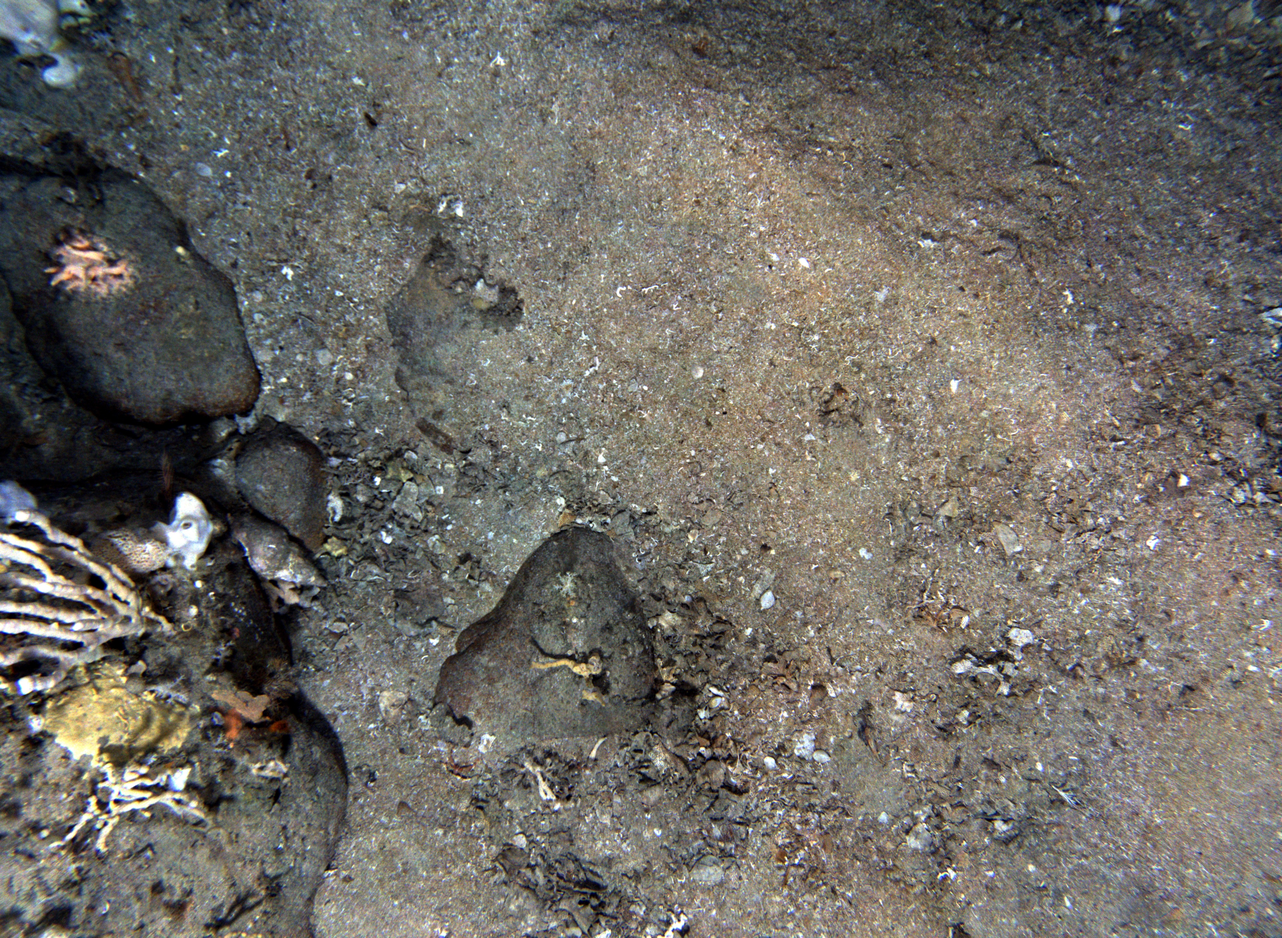Brachionichthyidae: (105, 51, 144, 104)
